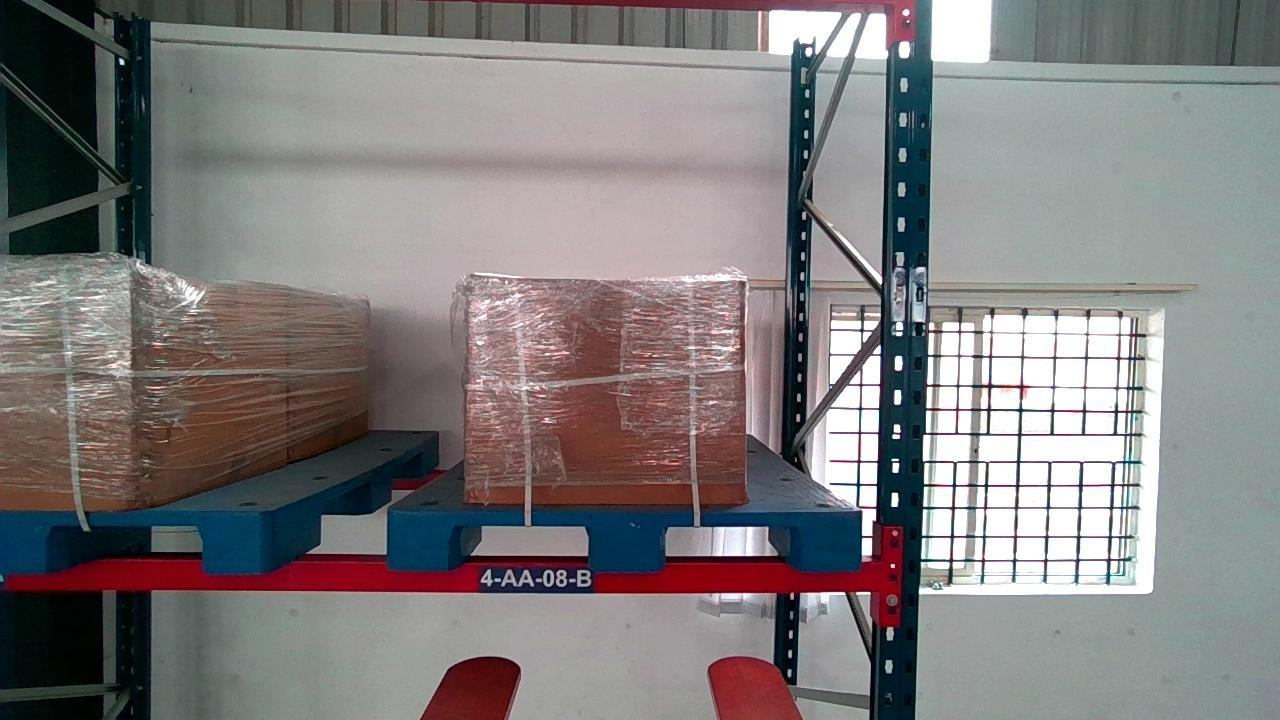h_rack: (3, 559, 882, 591)
small_pallet: (389, 510, 860, 570), (3, 509, 265, 575)
